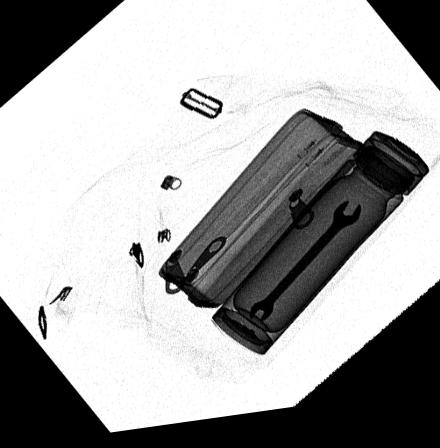Wrench: (248, 209, 363, 330)
